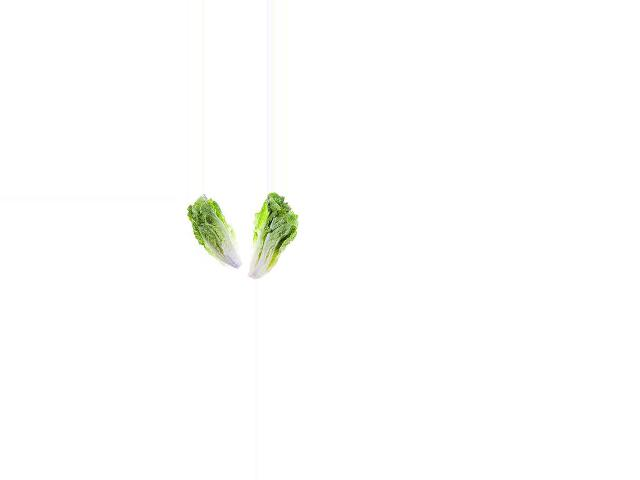lettuce: (185, 195, 242, 277)
